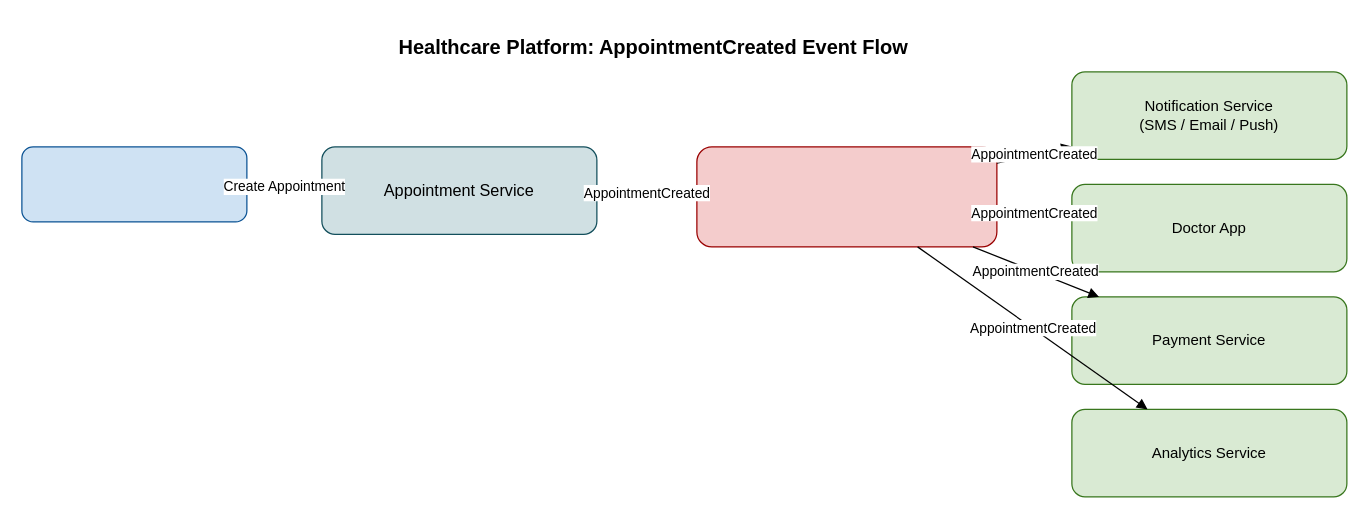
The diagram is 1369 pixels wide and 519 high, and some of its shapes have lost their labels. The box of each missing label's shape, as (x1, y1, x2, y2) in pixels:
Event Bus Topic: appointments: (696, 146, 997, 247)
Patient App: (21, 146, 247, 222)
